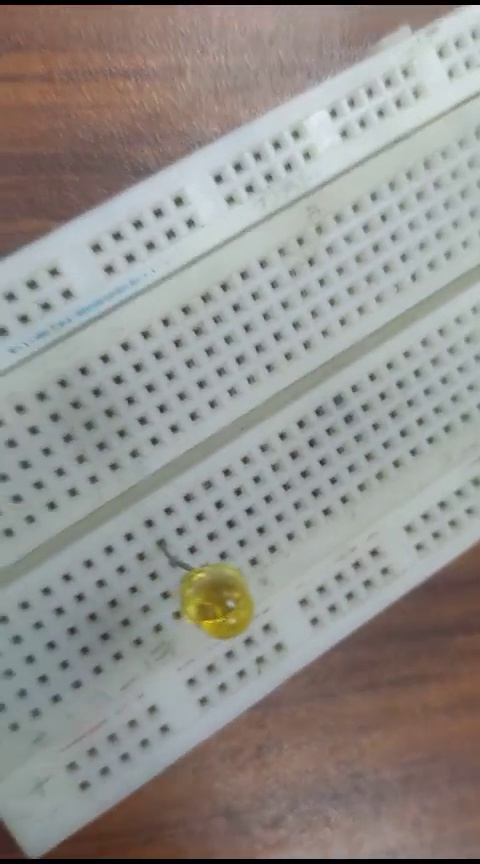LED: (150, 524, 259, 652)
